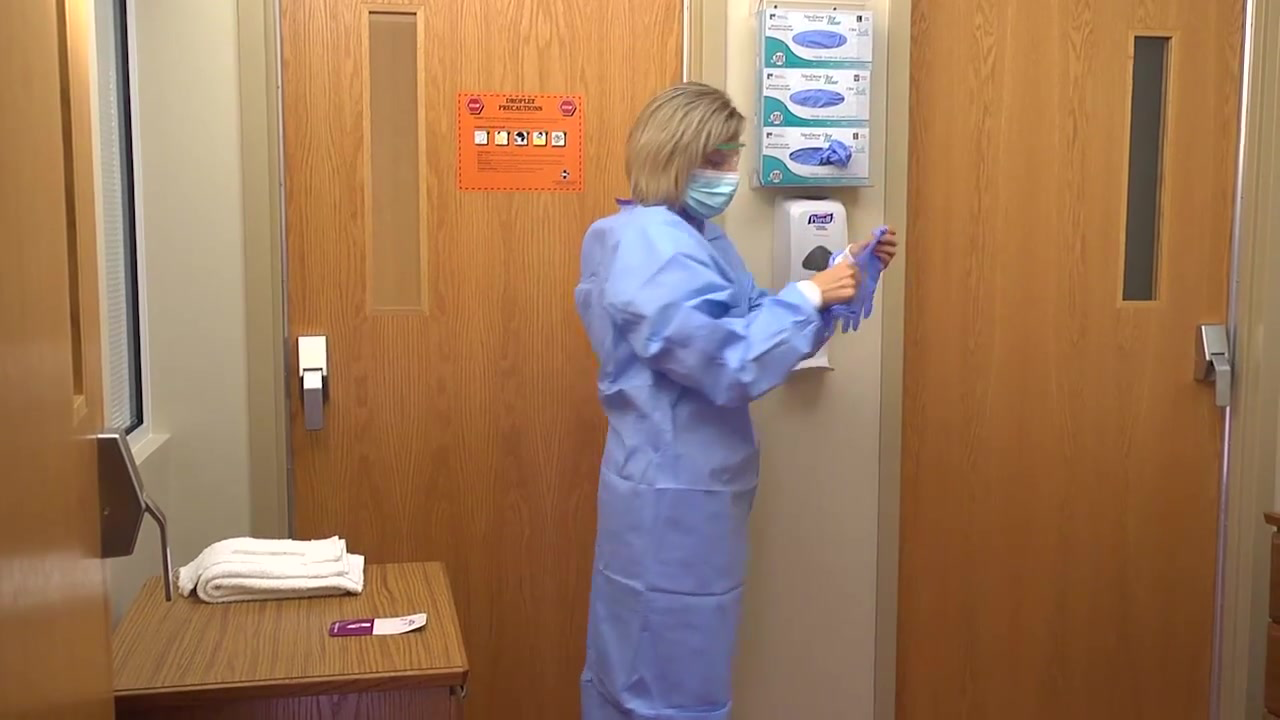Coverall: (549, 198, 856, 720)
Face_Shield: (689, 135, 755, 213)
Gloves: (836, 226, 891, 334)
with_mask: (676, 159, 748, 221)
